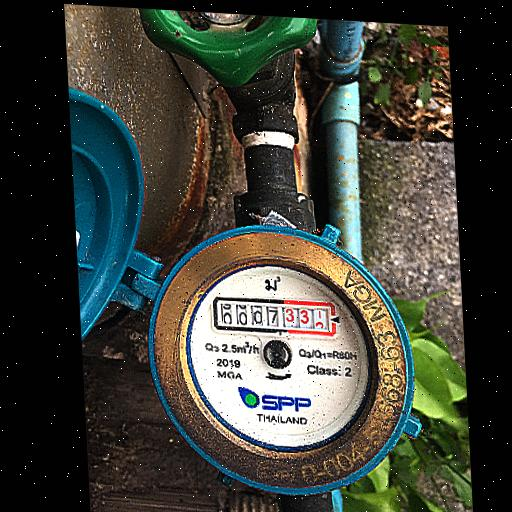0: (251, 306, 263, 327), (237, 305, 248, 326), (221, 305, 233, 324)
1: (313, 310, 326, 330)
3: (284, 308, 296, 329), (299, 309, 311, 329)
7: (267, 307, 278, 328)
border_water_meter_number: (212, 296, 337, 337)
